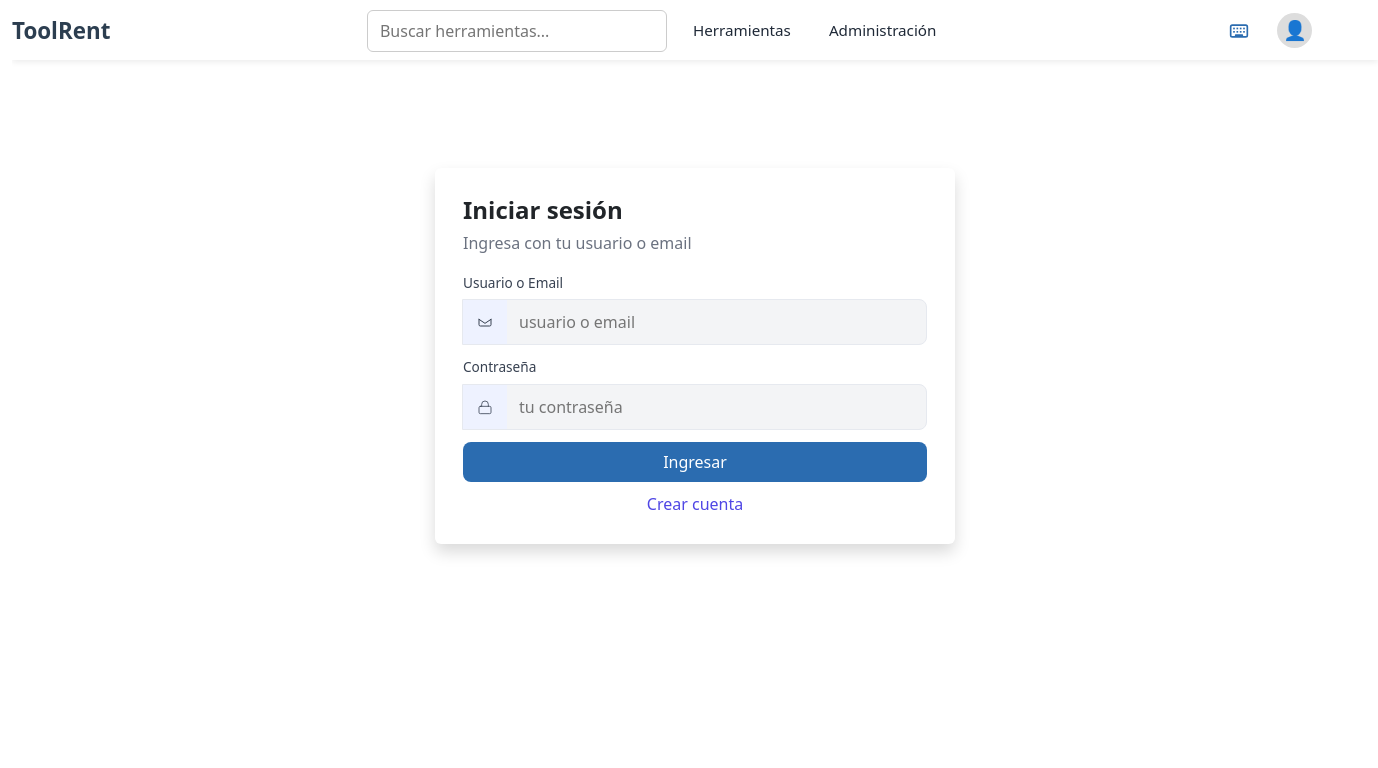
Test: Login › shows generic error on server error
Type "user" into the field labelled "Usuario o Email" at (716, 322), box [507,300,926,344]
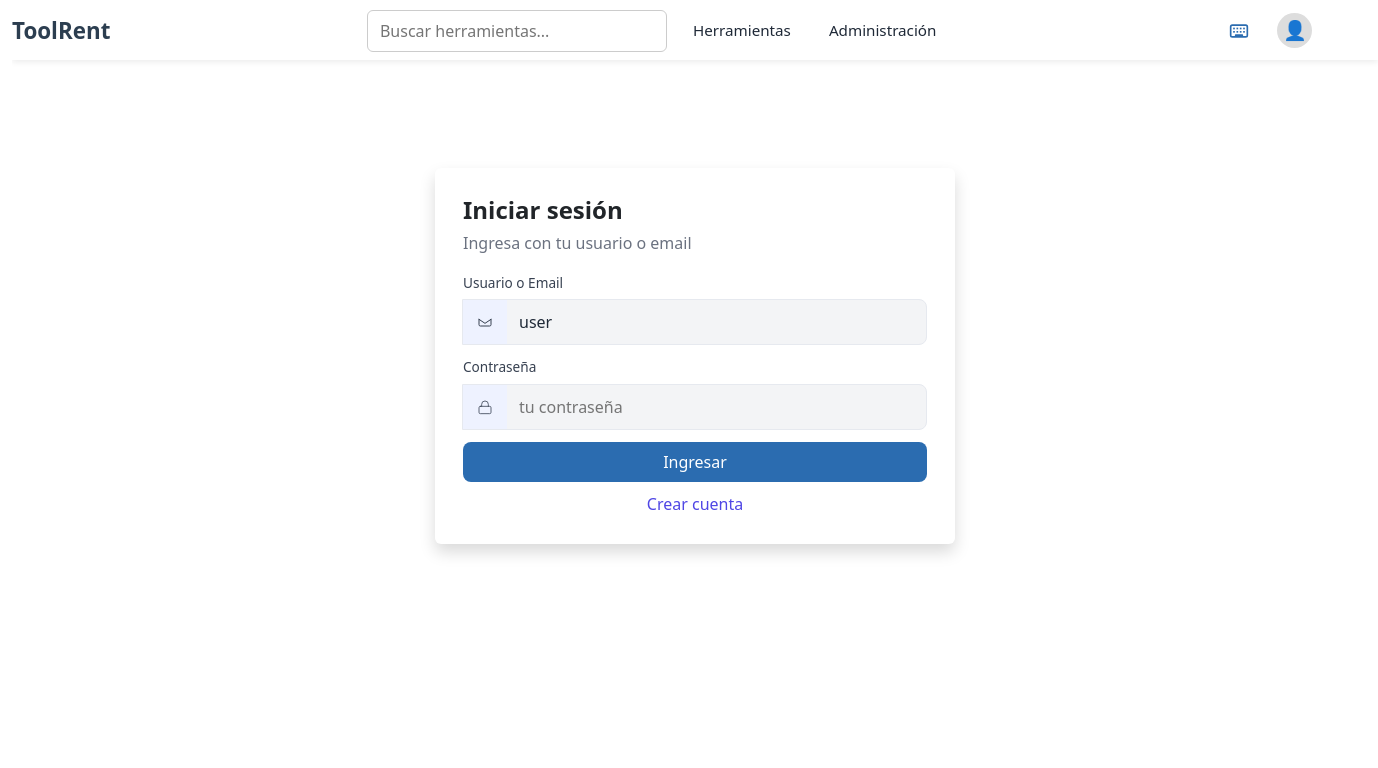
Type "pass" into the password field labelled "Contraseña" at (716, 407), box [507,385,926,429]
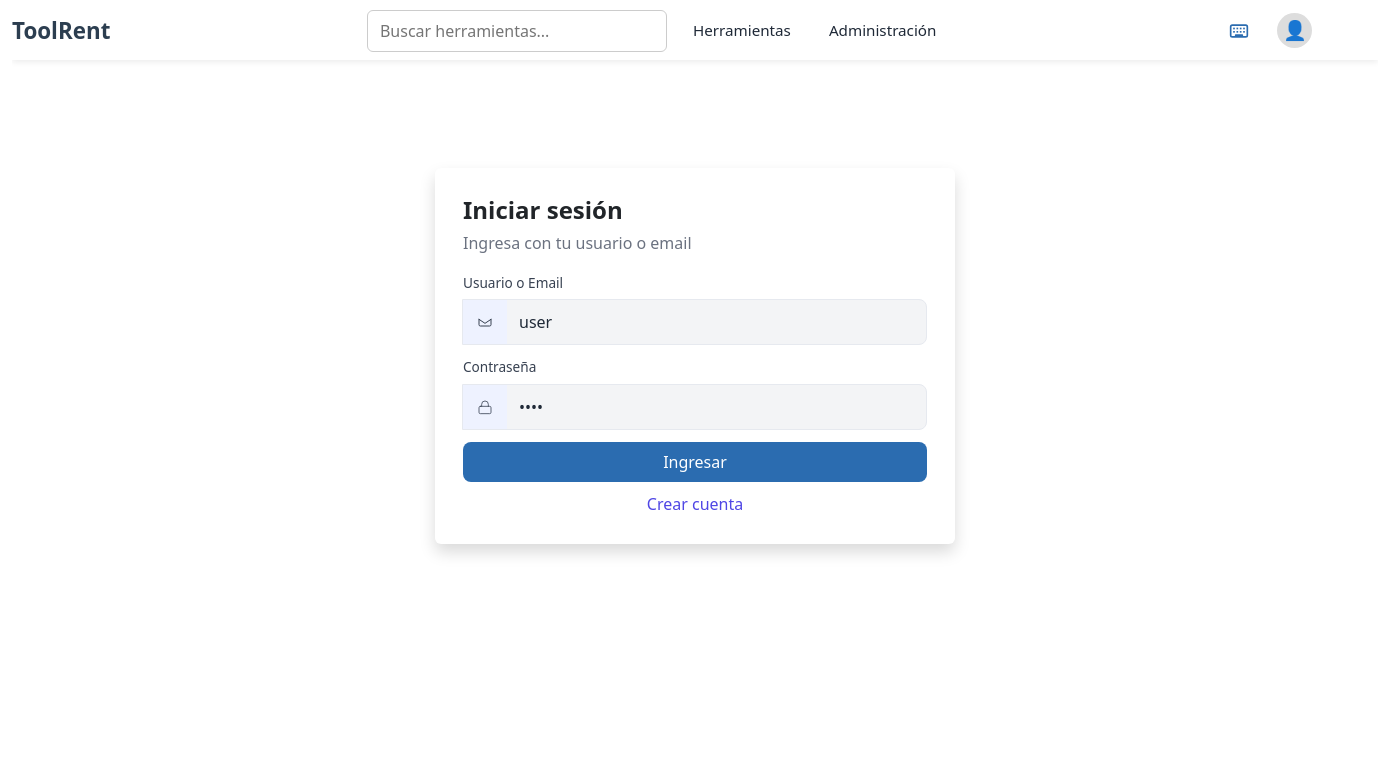
Click the button "Ingresar" at (695, 462), box [463,442,927,482]
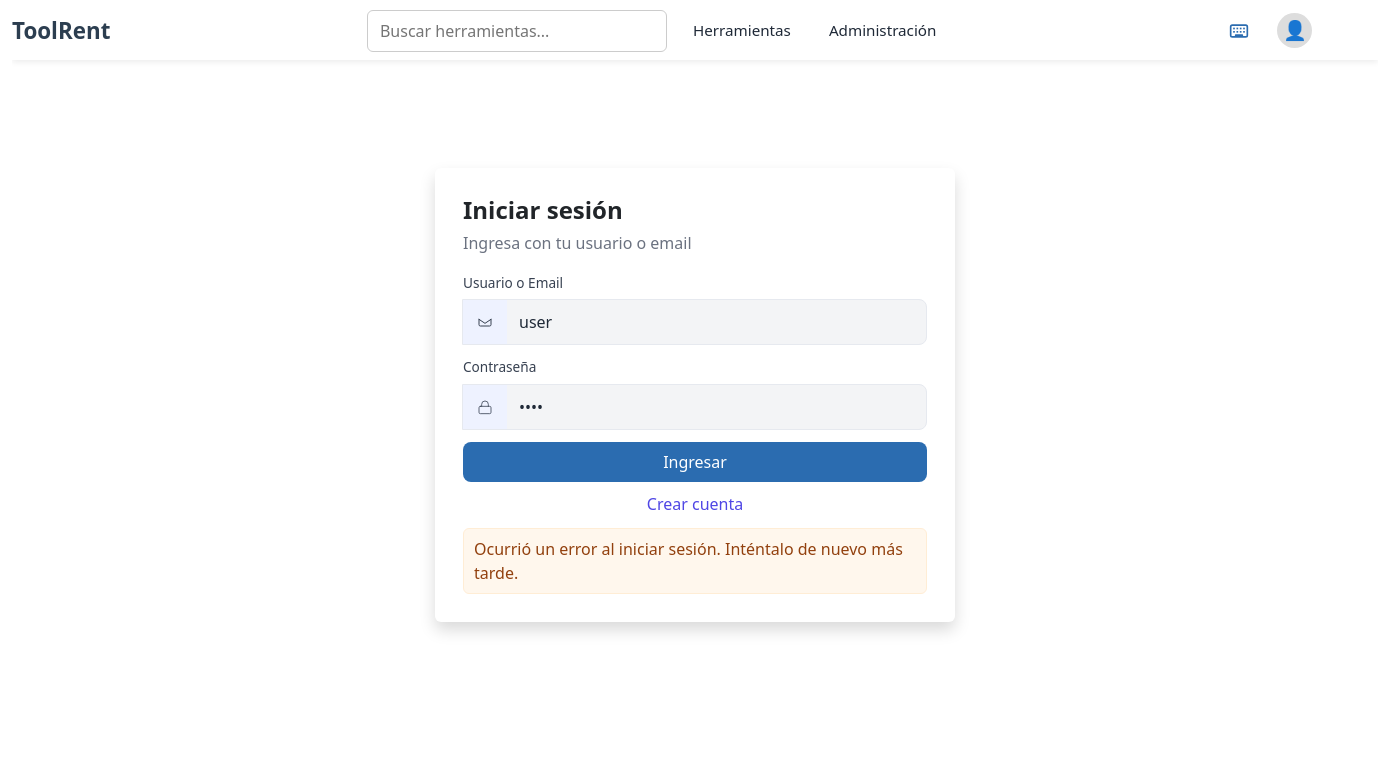
Result: the text "error al iniciar sesión" is shown at [474,538,907,584]
